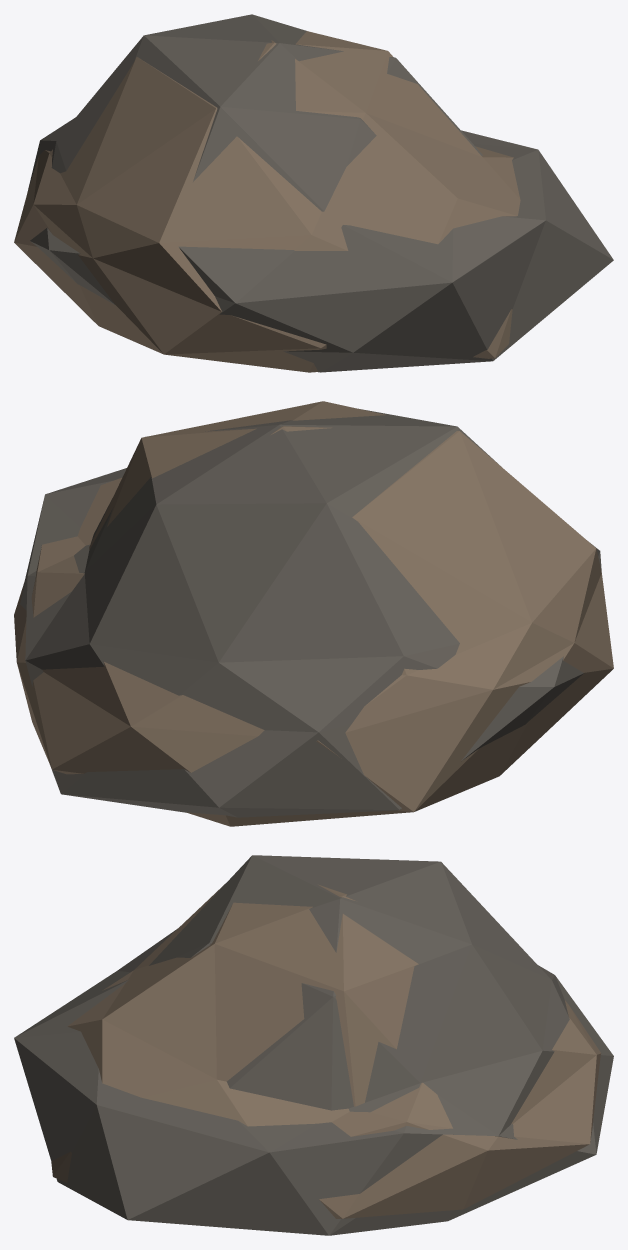
Rendered from short rock.fbx.
3 views of the same model, one above another, from view 1: azimuth 30°, elevation 25°; view 2: azimuth 150°, elevation 25°; view 3: azimuth 270°, elevation 25° (orthographic). The views are drawn at different scales.
Visible parts, largest first — view 1: Icosphere, Icosphere.001; view 2: Icosphere.001, Icosphere; view 3: Icosphere.001, Icosphere.
Boxes of the visible parts, x1,y1,x2,y2 form: Icosphere: (14,31,520,372); Icosphere.001: (27,14,613,372); Icosphere.001: (20,408,601,817); Icosphere: (14,401,613,826); Icosphere.001: (14,855,613,1235); Icosphere: (51,884,601,1218).
Bounding box in the file's own units: 215 × 111 × 236.
